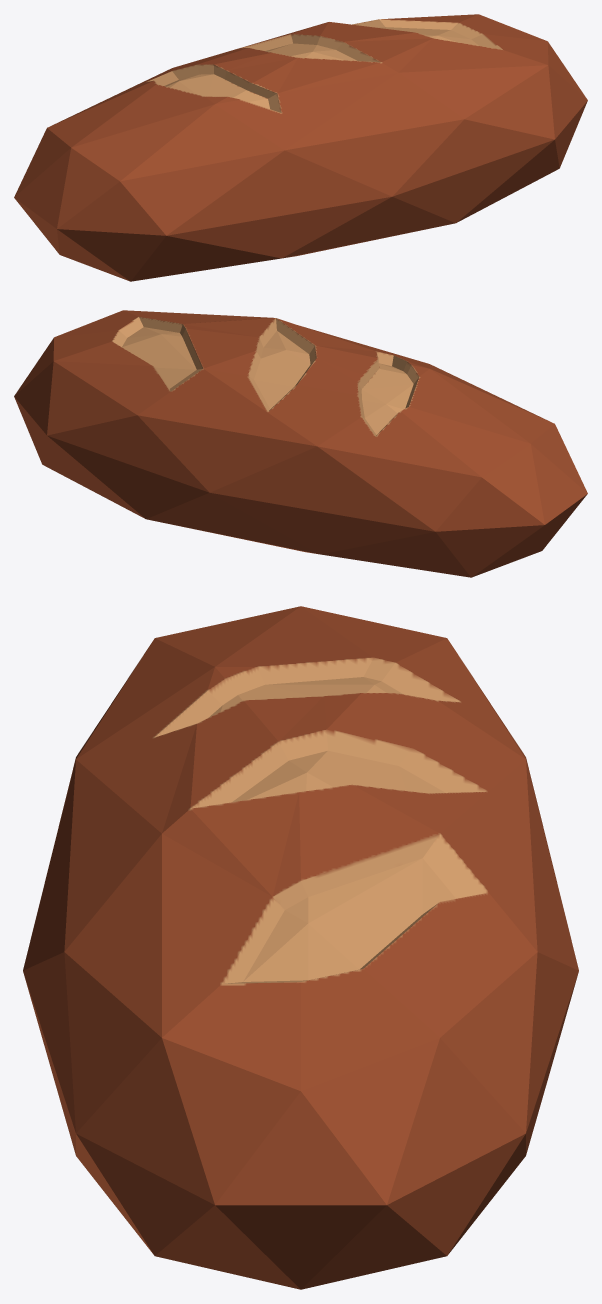
The model's file is Pane.fbx.
The picture shows the model from 3 angles, top to bottom: view 1: azimuth 30°, elevation 25°; view 2: azimuth 150°, elevation 25°; view 3: azimuth 270°, elevation 25°; orthographic projection. The views are drawn at different scales.
Parts seen in each view (by area): view 1: Icosphere; view 2: Icosphere; view 3: Icosphere.
Part boxes in pixels (bbox=[...]): Icosphere: bbox=[14, 14, 587, 281]; Icosphere: bbox=[14, 310, 587, 577]; Icosphere: bbox=[23, 606, 578, 1289].
Bounding box in the file's own units: 441 × 135 × 200.
